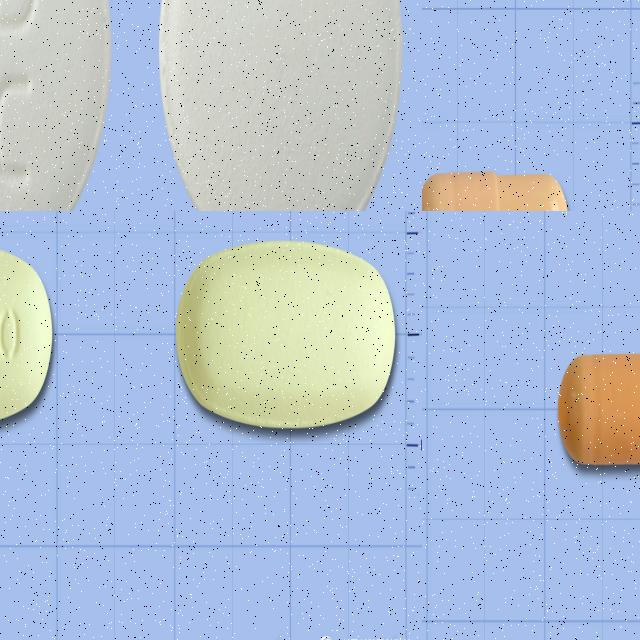Cefixime Cap- Mothers: (422, 165, 572, 211)
Cefixime Cap- Reyon: (555, 345, 640, 470)
Clithro: (174, 241, 398, 427), (0, 238, 54, 428)
Cycin - 500mg: (157, 0, 402, 211), (0, 0, 111, 211)
